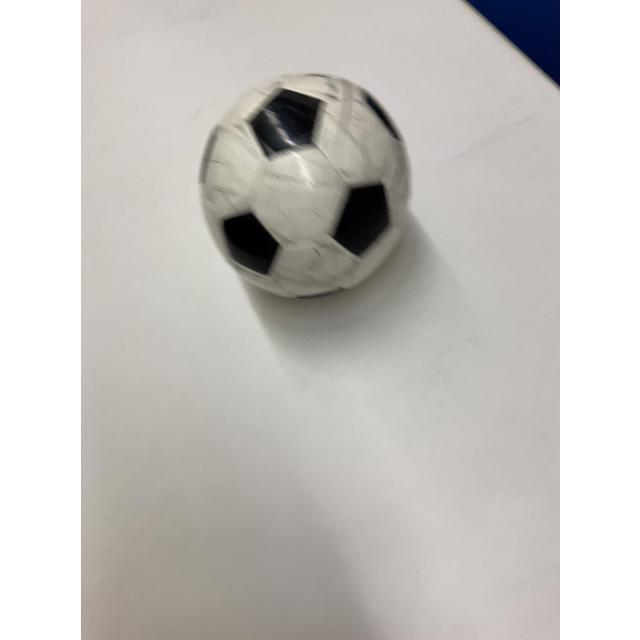ball: (195, 70, 415, 300)
